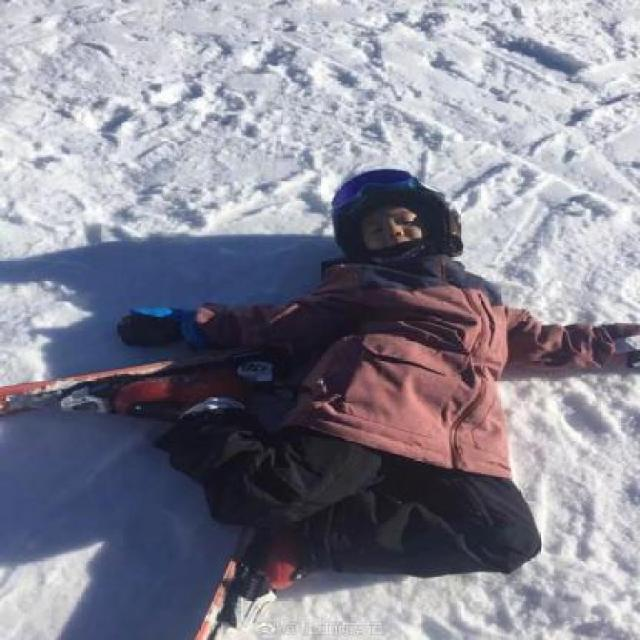fall: (96, 161, 624, 613)
